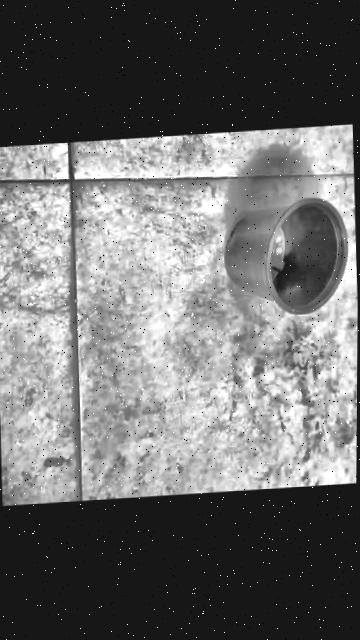pot: (223, 195, 351, 318)
